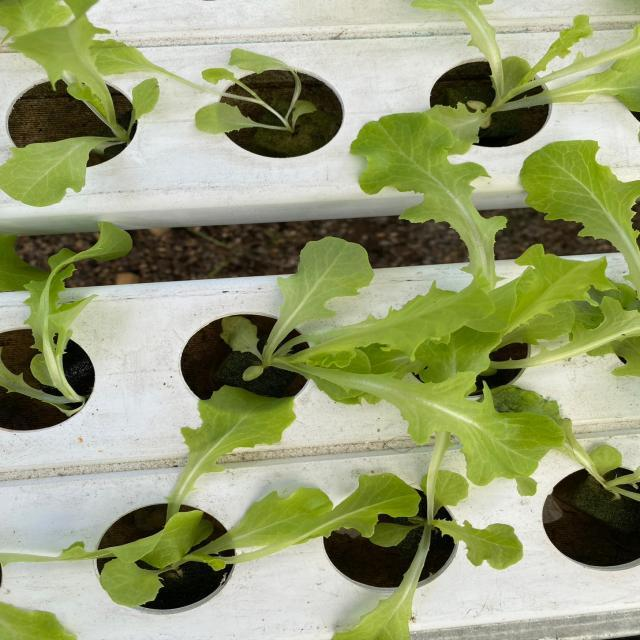Lettuce-Not-Ready-to-Harvest: (224, 238, 565, 484), (129, 386, 419, 570), (332, 432, 522, 639), (0, 0, 159, 206), (425, 246, 640, 379), (351, 112, 505, 288), (0, 222, 129, 416), (371, 522, 410, 546)
